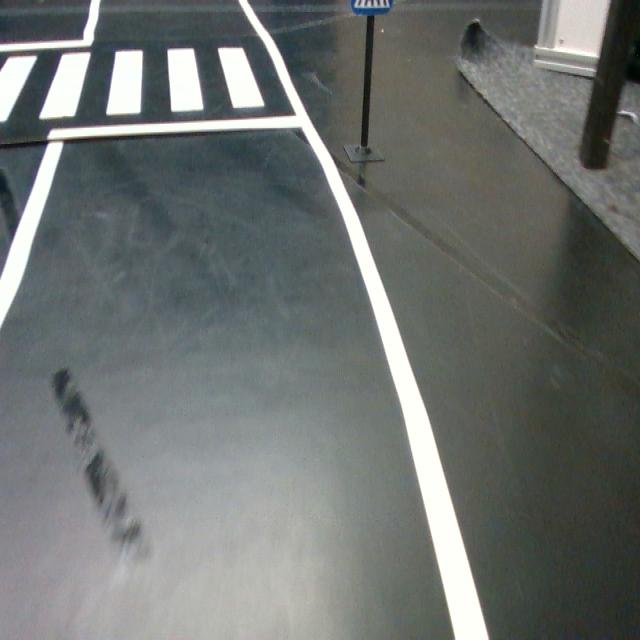crosswalk-sign: (350, 0, 393, 16)
